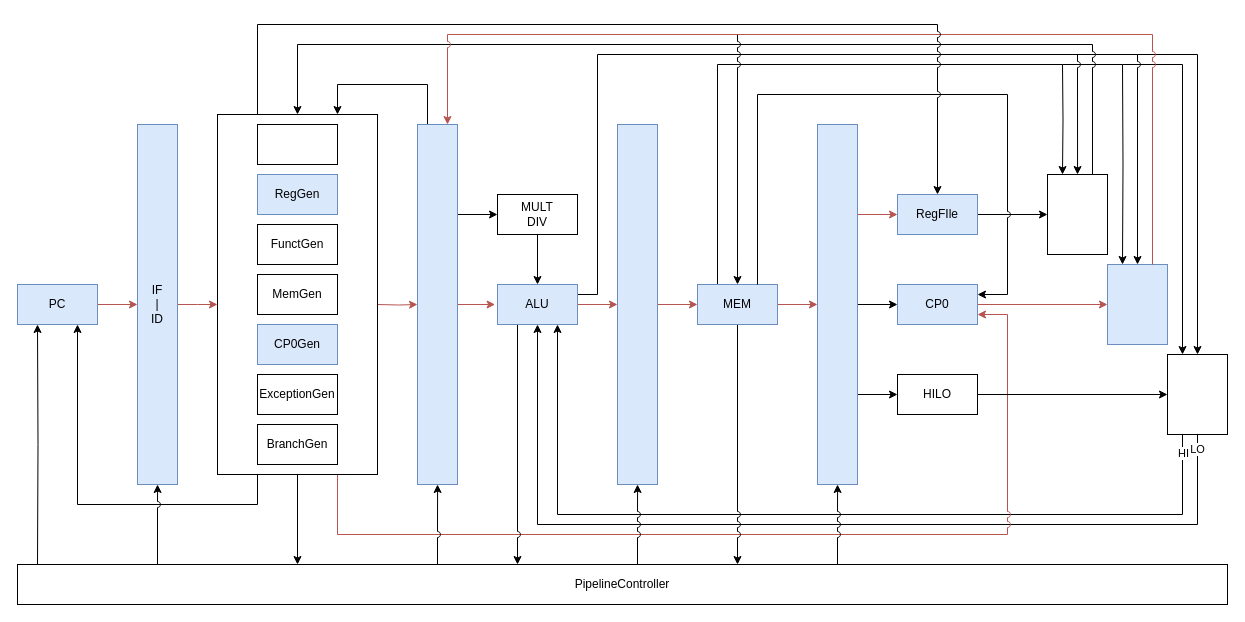
Image size: 1245x622. Some labels were removed from this diagram. Each missing label, with the centre of its shape:
CP0Read Proxy: the point at 1137,304
EX | MEM: the point at 637,304
HILORead Proxy: the point at 1197,394
ID | EX: the point at 437,304
MEM | WB: the point at 837,304
OperandGen: the point at 297,144
RegRead Proxy: the point at 1077,214
